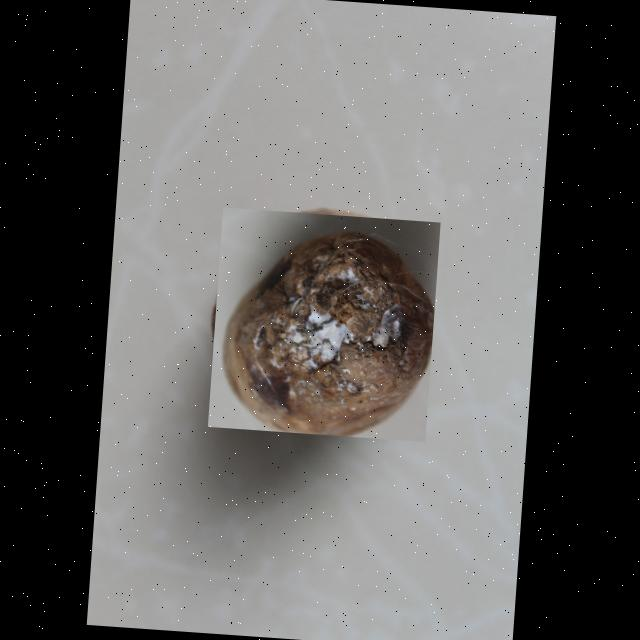Diseased-fungal potato: (206, 206, 439, 442)
